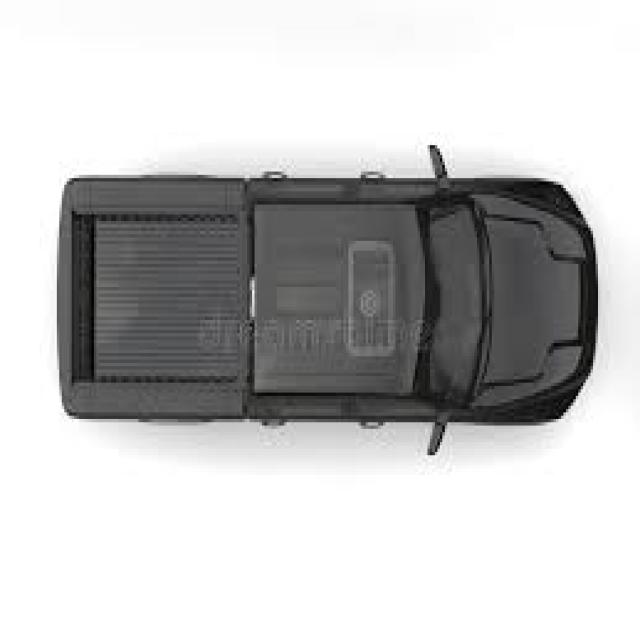truck: (63, 177, 598, 425)
